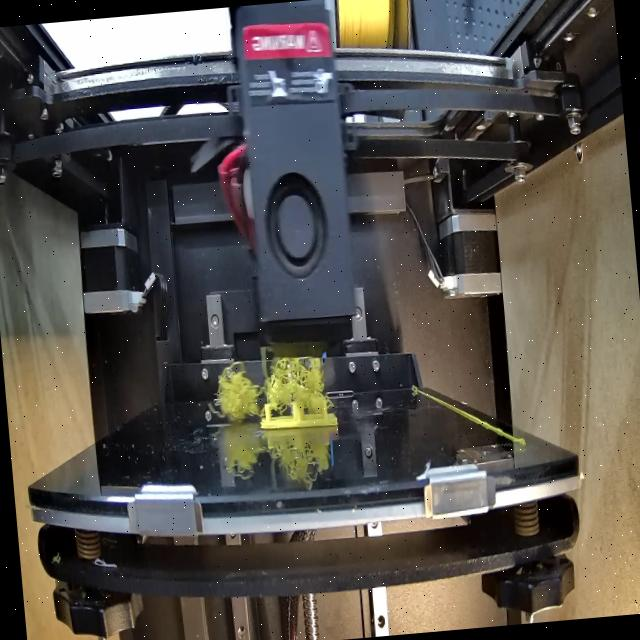spaghetti: (211, 345, 334, 421)
